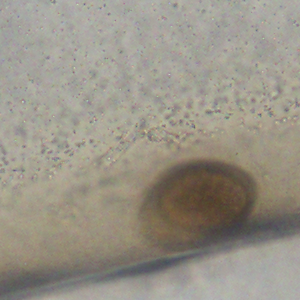Fasciola_hepatica_egg: (131, 155, 261, 250)
